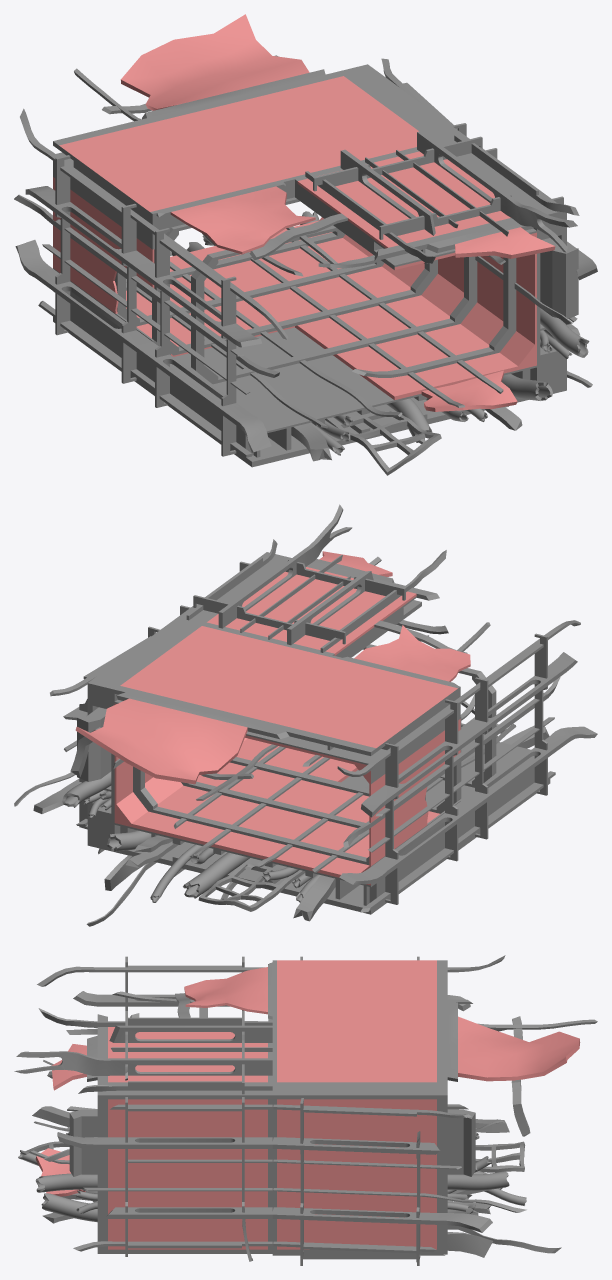
Rendered from SM_BrokenShipConstrctor_Full_01.gltf.
3 views of the same model, one above another, from view 1: azimuth 30°, elevation 25°; view 2: azimuth 150°, elevation 25°; view 3: azimuth 270°, elevation 25° (orthographic). The views are drawn at different scales.
Visible parts, largest first — view 1: SM_BrokenShipConstrctor_Full_01; view 2: SM_BrokenShipConstrctor_Full_01; view 3: SM_BrokenShipConstrctor_Full_01.
Boxes of the visible parts, box(x1,y1,x2,y2) form: SM_BrokenShipConstrctor_Full_01: box(14, 14, 597, 475); SM_BrokenShipConstrctor_Full_01: box(14, 504, 597, 926); SM_BrokenShipConstrctor_Full_01: box(14, 955, 597, 1265).
Bounding box in the file's own units: 22.13 × 13.4 × 33.37.
